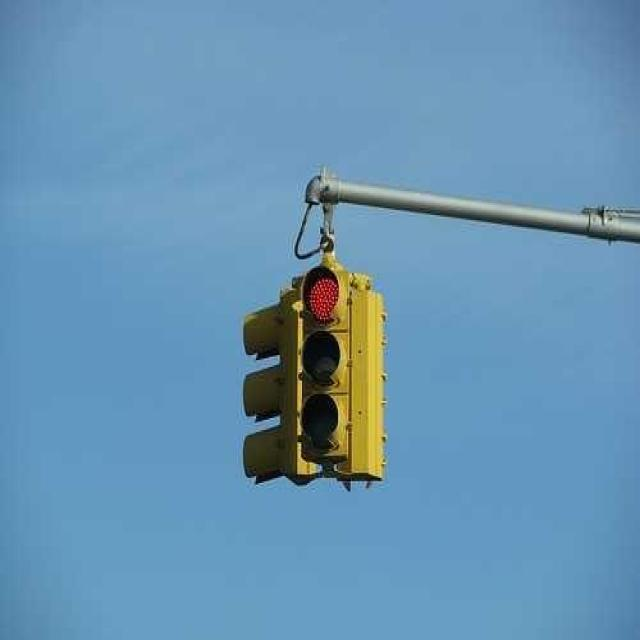Traffic Light -Red-: (292, 244, 354, 485)
